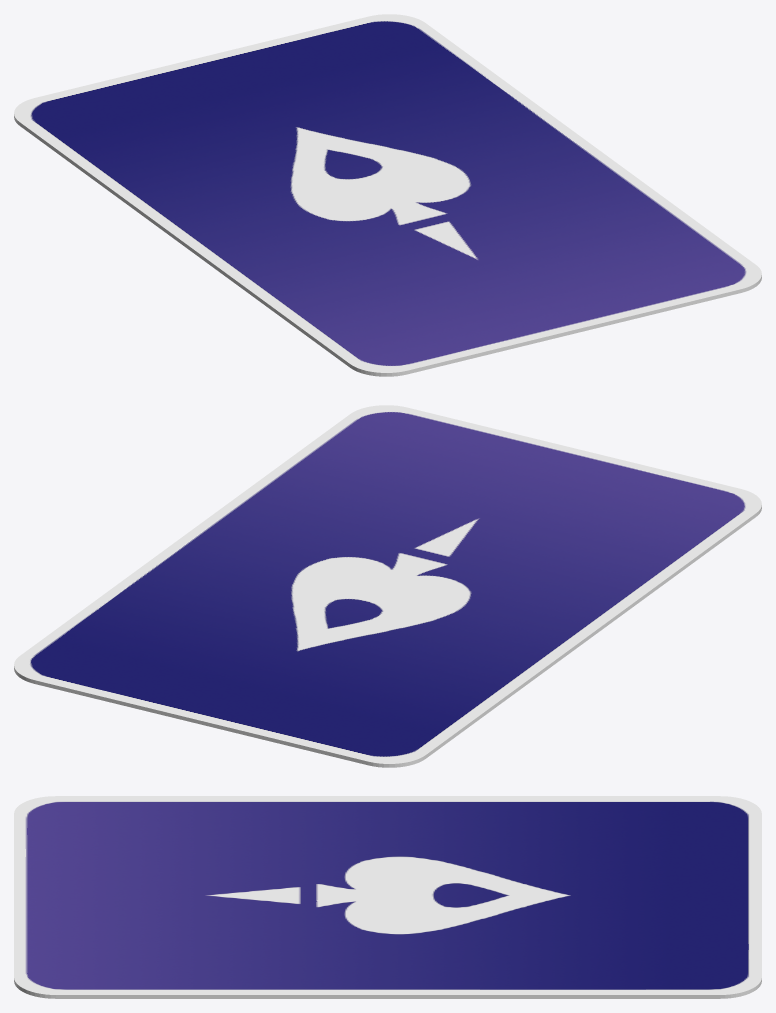
Rendered from spadescard.glb.
The picture shows the model from 3 angles, top to bottom: view 1: azimuth 30°, elevation 25°; view 2: azimuth 150°, elevation 25°; view 3: azimuth 270°, elevation 25°; orthographic projection.
Visible parts, largest first — view 1: Cube; view 2: Cube; view 3: Cube.
Boxes of the visible parts, x1,y1,x2,y2 form: Cube: [14, 14, 761, 376]; Cube: [14, 405, 761, 767]; Cube: [14, 796, 761, 998].
Bounding box in the file's own units: 0.056 × 0.0005 × 0.089.
Materials: 3 (2 with a texture image).
